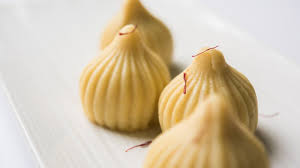modak: (160, 35, 262, 141), (82, 24, 167, 129)
